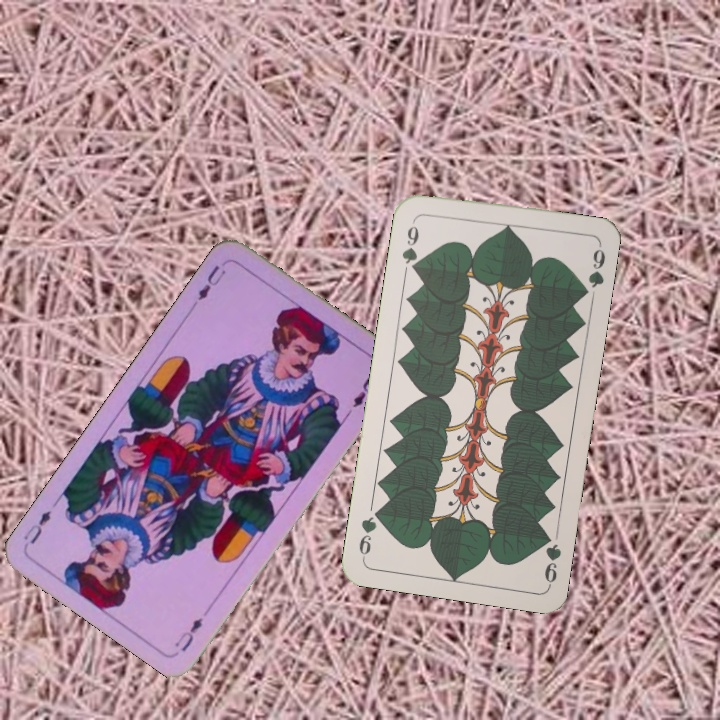EU: (193, 260, 229, 304), (170, 613, 206, 655)
G9: (539, 527, 564, 588), (398, 214, 422, 275)
